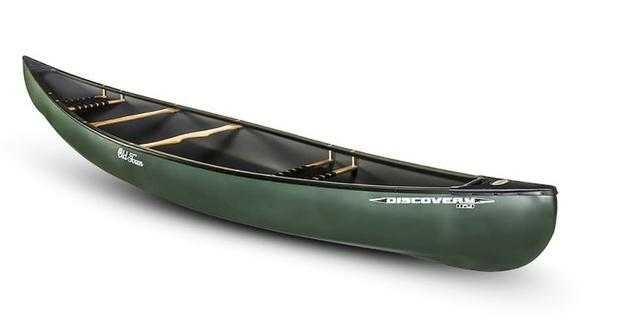kayak: (21, 56, 563, 277)
